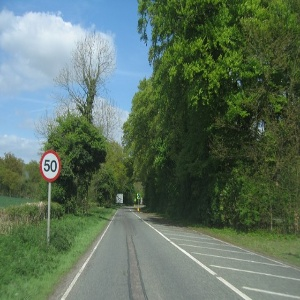50 speed: (39, 150, 62, 182)
